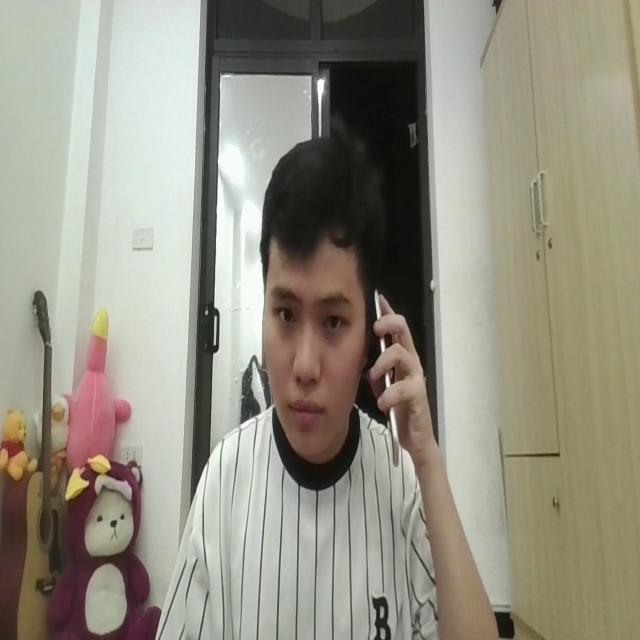phone: (372, 277, 400, 472)
student: (142, 130, 507, 640)
